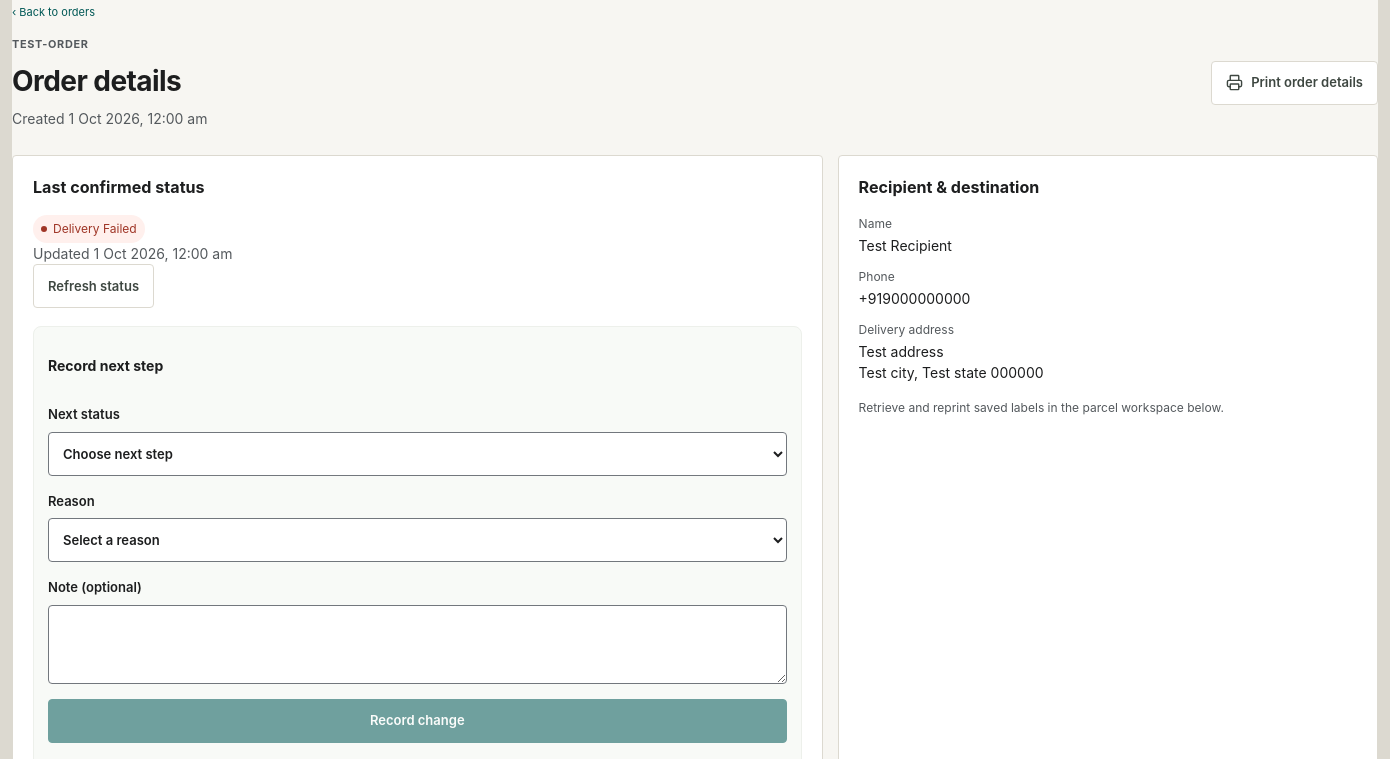
Test: shows backend transition errors without changing the confirmed status or exposing seller completion
Expected: the heading "Order details" is shown, [12, 60, 208, 102]
Select "Return Initiated" in the dropdown labelled "Next status" at (417, 454), box [48, 432, 787, 476]
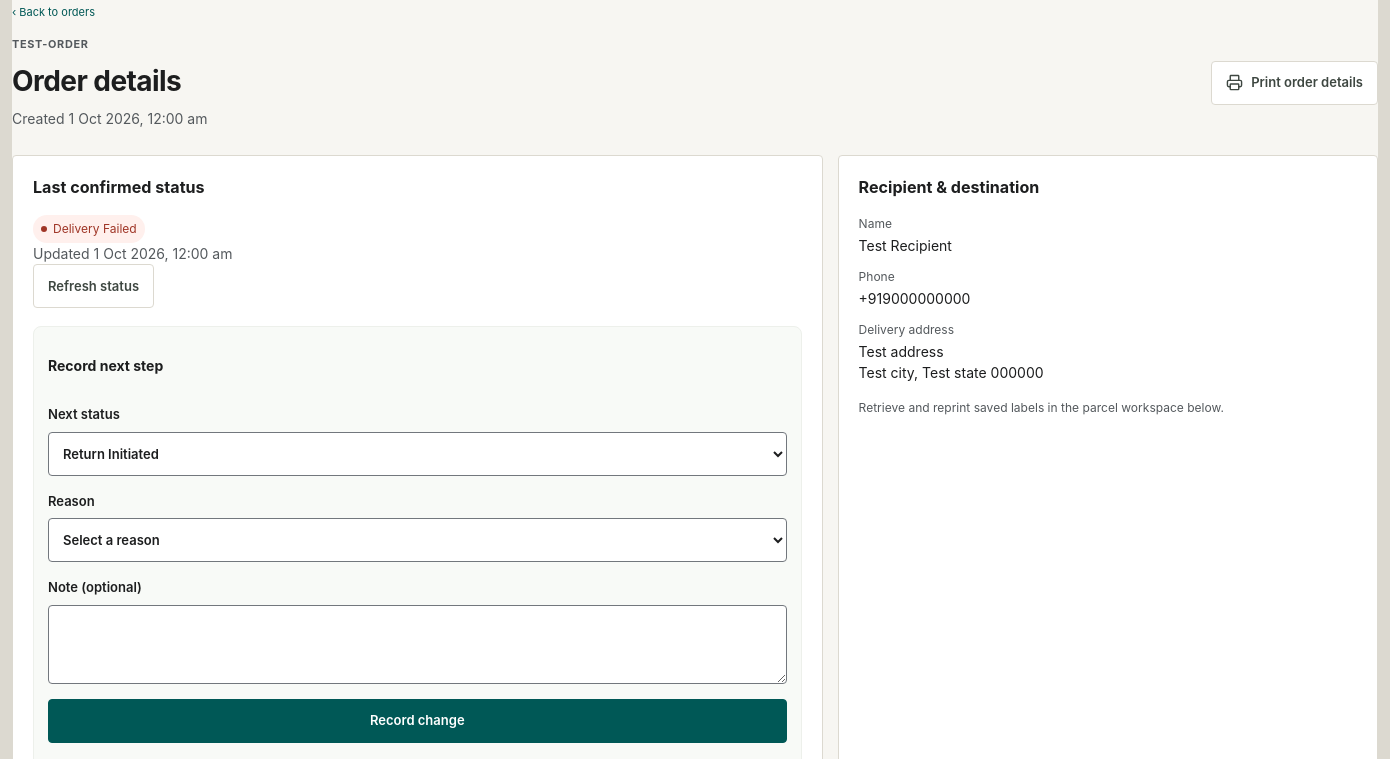
Select "Address Incorrect" in the dropdown labelled "Reason" at (417, 540), box [48, 518, 787, 562]
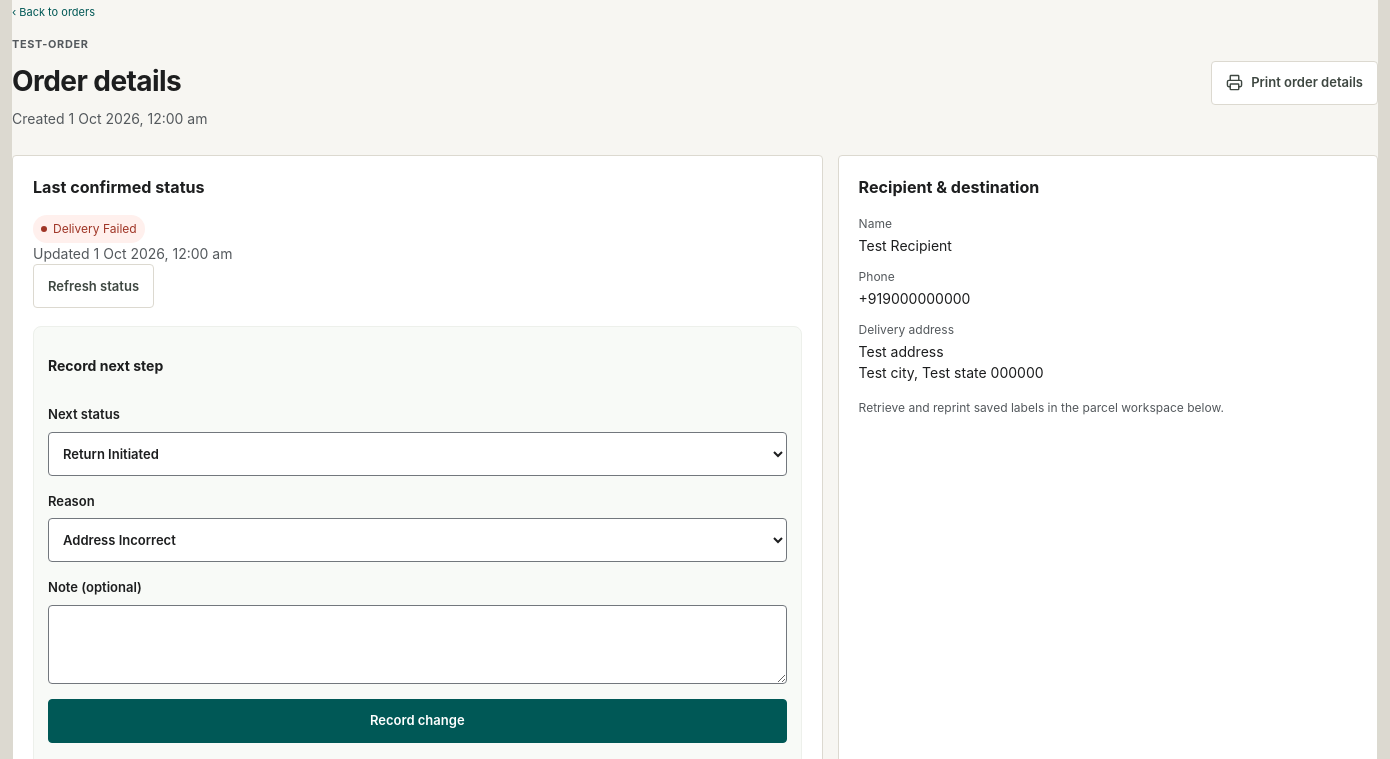
Click the button "Record change" at (417, 720), box [48, 698, 787, 742]
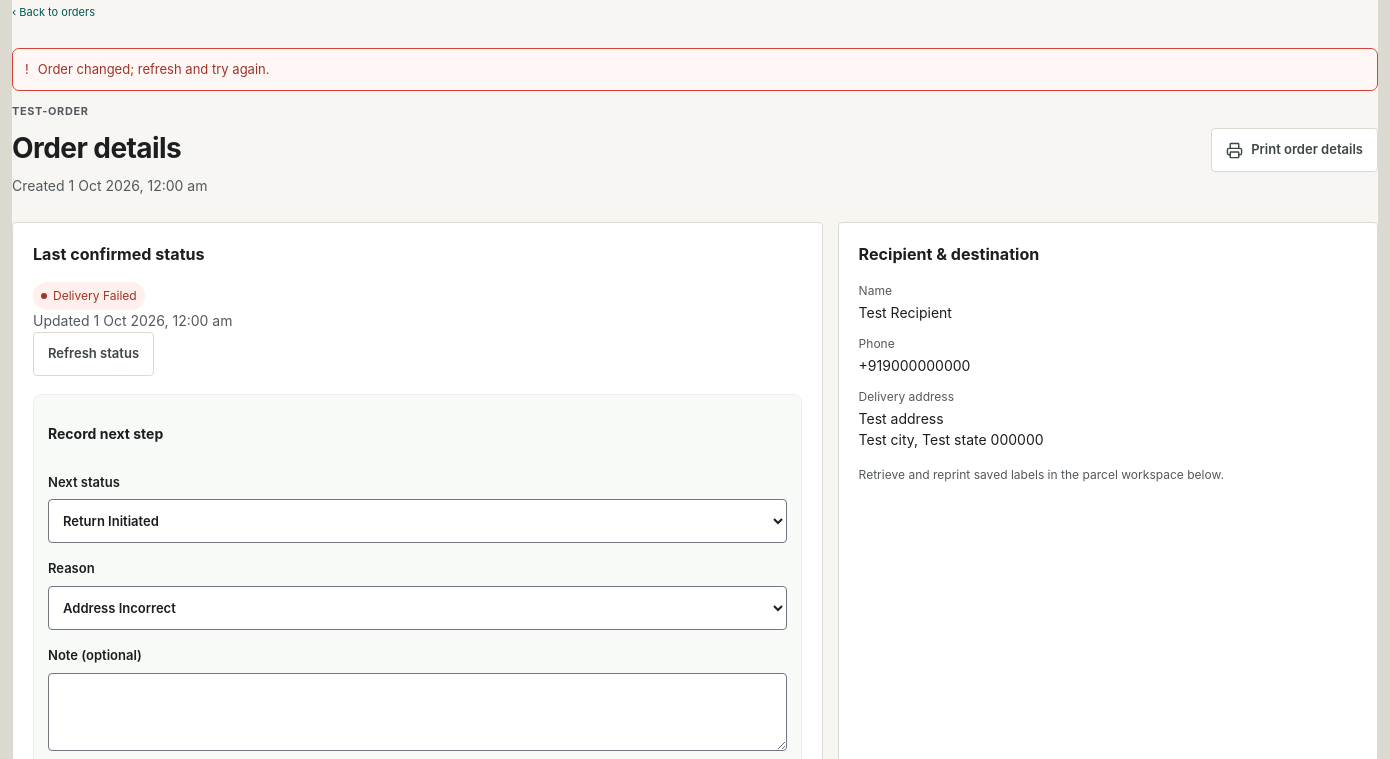
Expected: the text "Delivery Failed" is shown, [33, 282, 145, 310]
Now the message shows "Order changed", box [38, 60, 270, 76]
